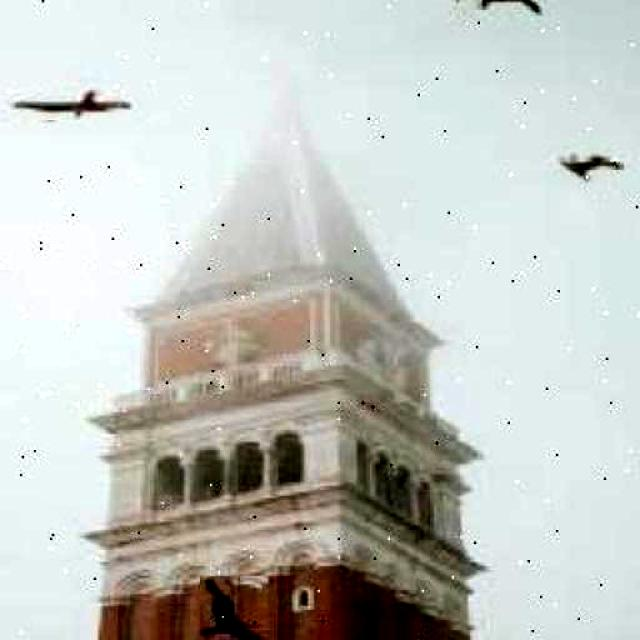airplane: (200, 578, 268, 640), (10, 90, 132, 120), (558, 152, 625, 184), (456, 0, 544, 16)
